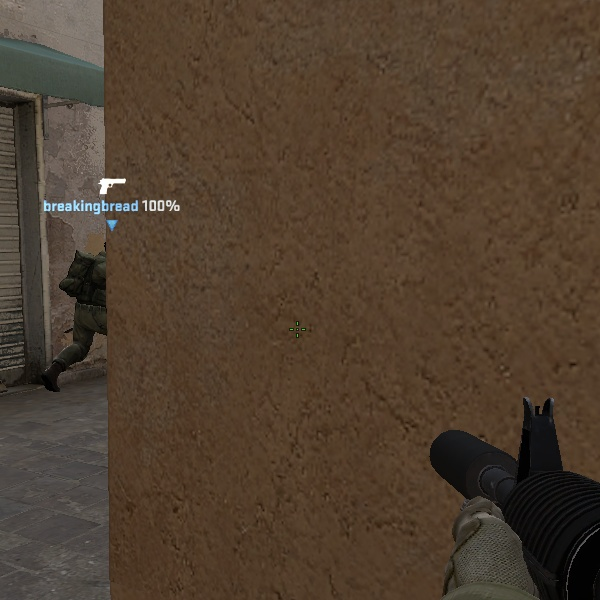ct_body: (54, 241, 112, 373)
